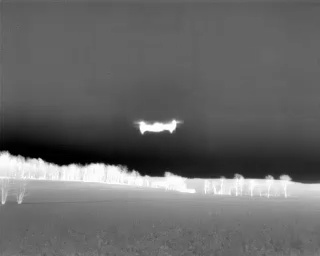DRONE: (129, 112, 188, 140)
